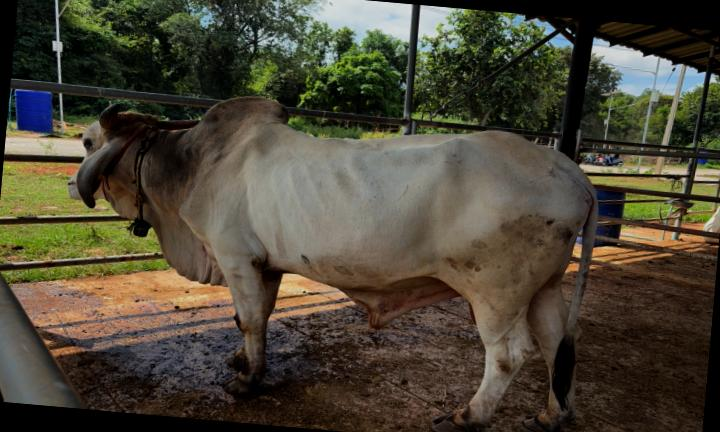Brahman: (69, 96, 598, 432)
